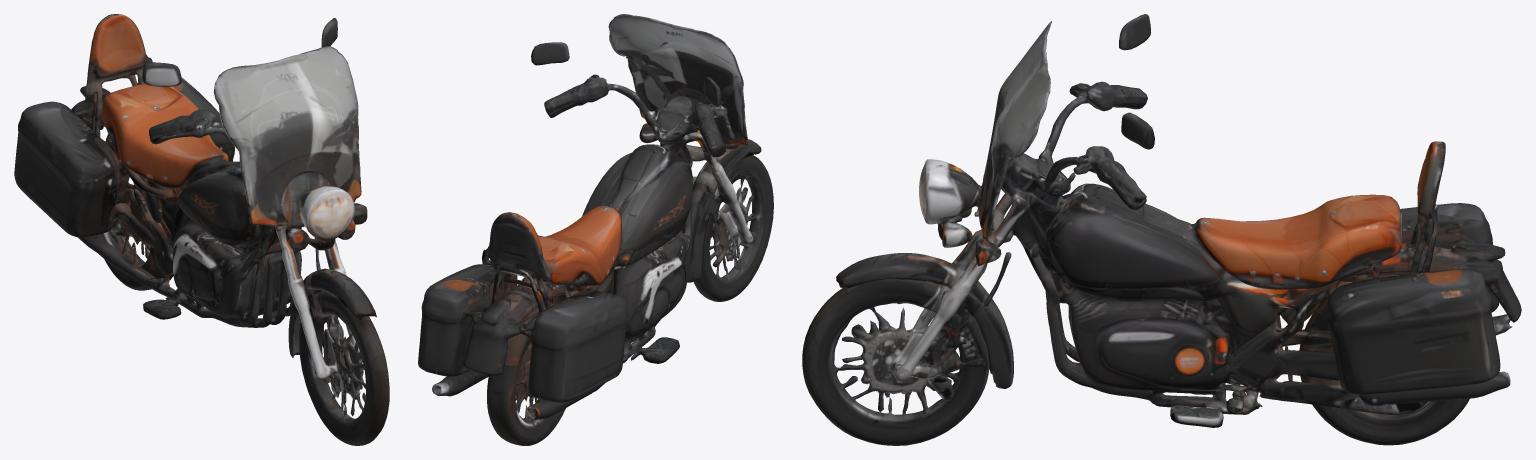
Rendered from Komaki_Ranger_0905123538.fbx.
3 views of the same model, side by side, from view 1: azimuth 30°, elevation 25°; view 2: azimuth 150°, elevation 25°; view 3: azimuth 270°, elevation 25° (orthographic). The views are drawn at different scales.
Visible parts, largest first — view 1: Mesh_0; view 2: Mesh_0; view 3: Mesh_0.
Boxes of the visible parts, bbox=[...] form: Mesh_0: bbox=[14, 14, 389, 445]; Mesh_0: bbox=[418, 14, 773, 445]; Mesh_0: bbox=[802, 14, 1521, 445].
Bounding box in the file's own units: 74.3 × 121 × 200.
Materials: 1 (1 with a texture image).
